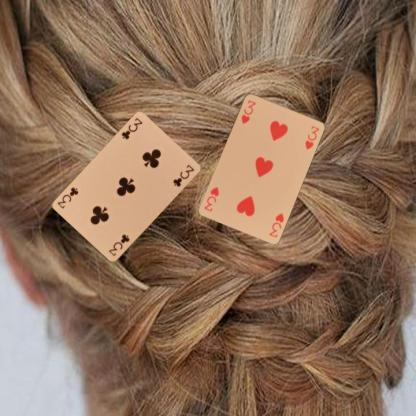3c: (119, 115, 144, 141), (106, 232, 131, 257)
3h: (266, 209, 285, 238), (239, 97, 257, 125)
